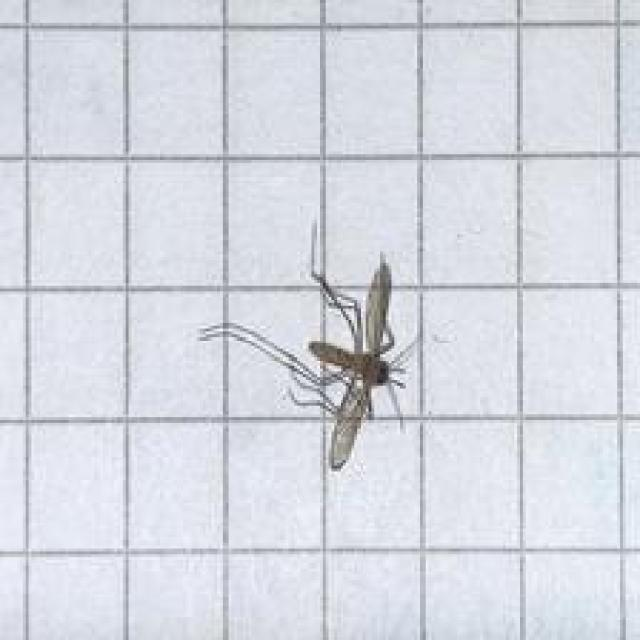Culex: (197, 220, 423, 471)
